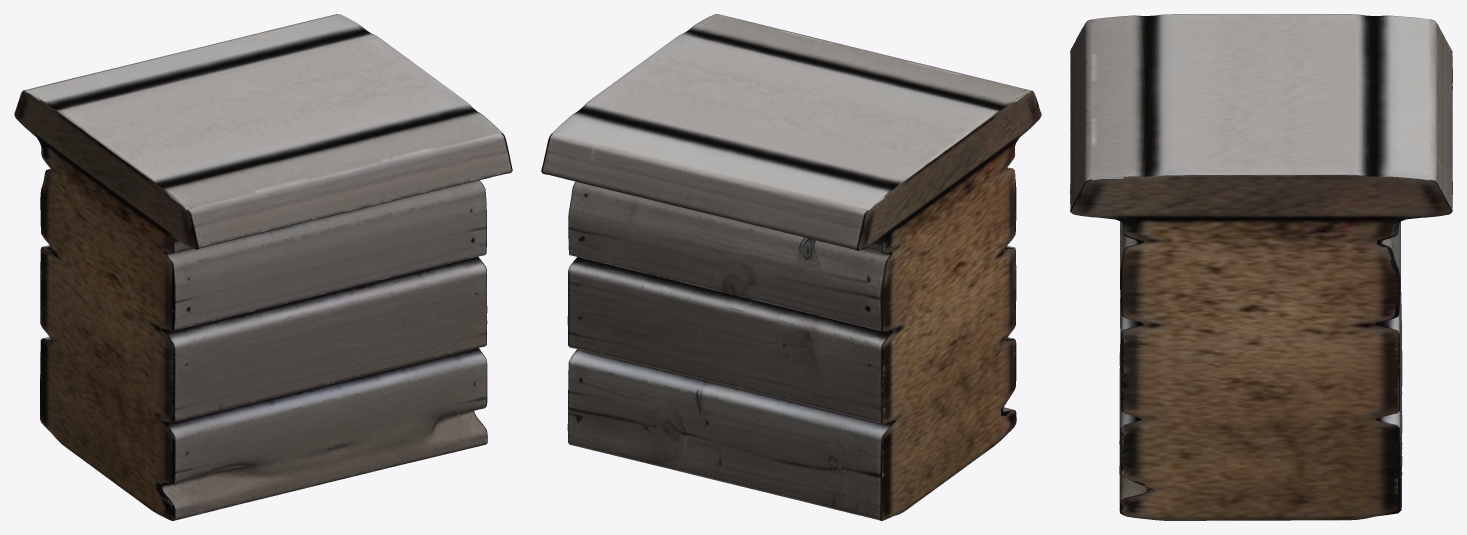
The model's file is wall-timber-half.glb.
The picture shows the model from 3 angles, left to right: view 1: azimuth 30°, elevation 25°; view 2: azimuth 150°, elevation 25°; view 3: azimuth 270°, elevation 25°; orthographic projection. The views are drawn at different scales.
Visible parts, largest first — view 1: tmp4rla8enp.ply; view 2: tmp4rla8enp.ply; view 3: tmp4rla8enp.ply.
Part boxes in pixels (x1,y1,x2,y2): tmp4rla8enp.ply: [14, 14, 512, 520]; tmp4rla8enp.ply: [541, 14, 1041, 520]; tmp4rla8enp.ply: [1070, 14, 1452, 520].
Bounding box in the file's own units: 1 × 1 × 1.
1 material, 1 textured.
